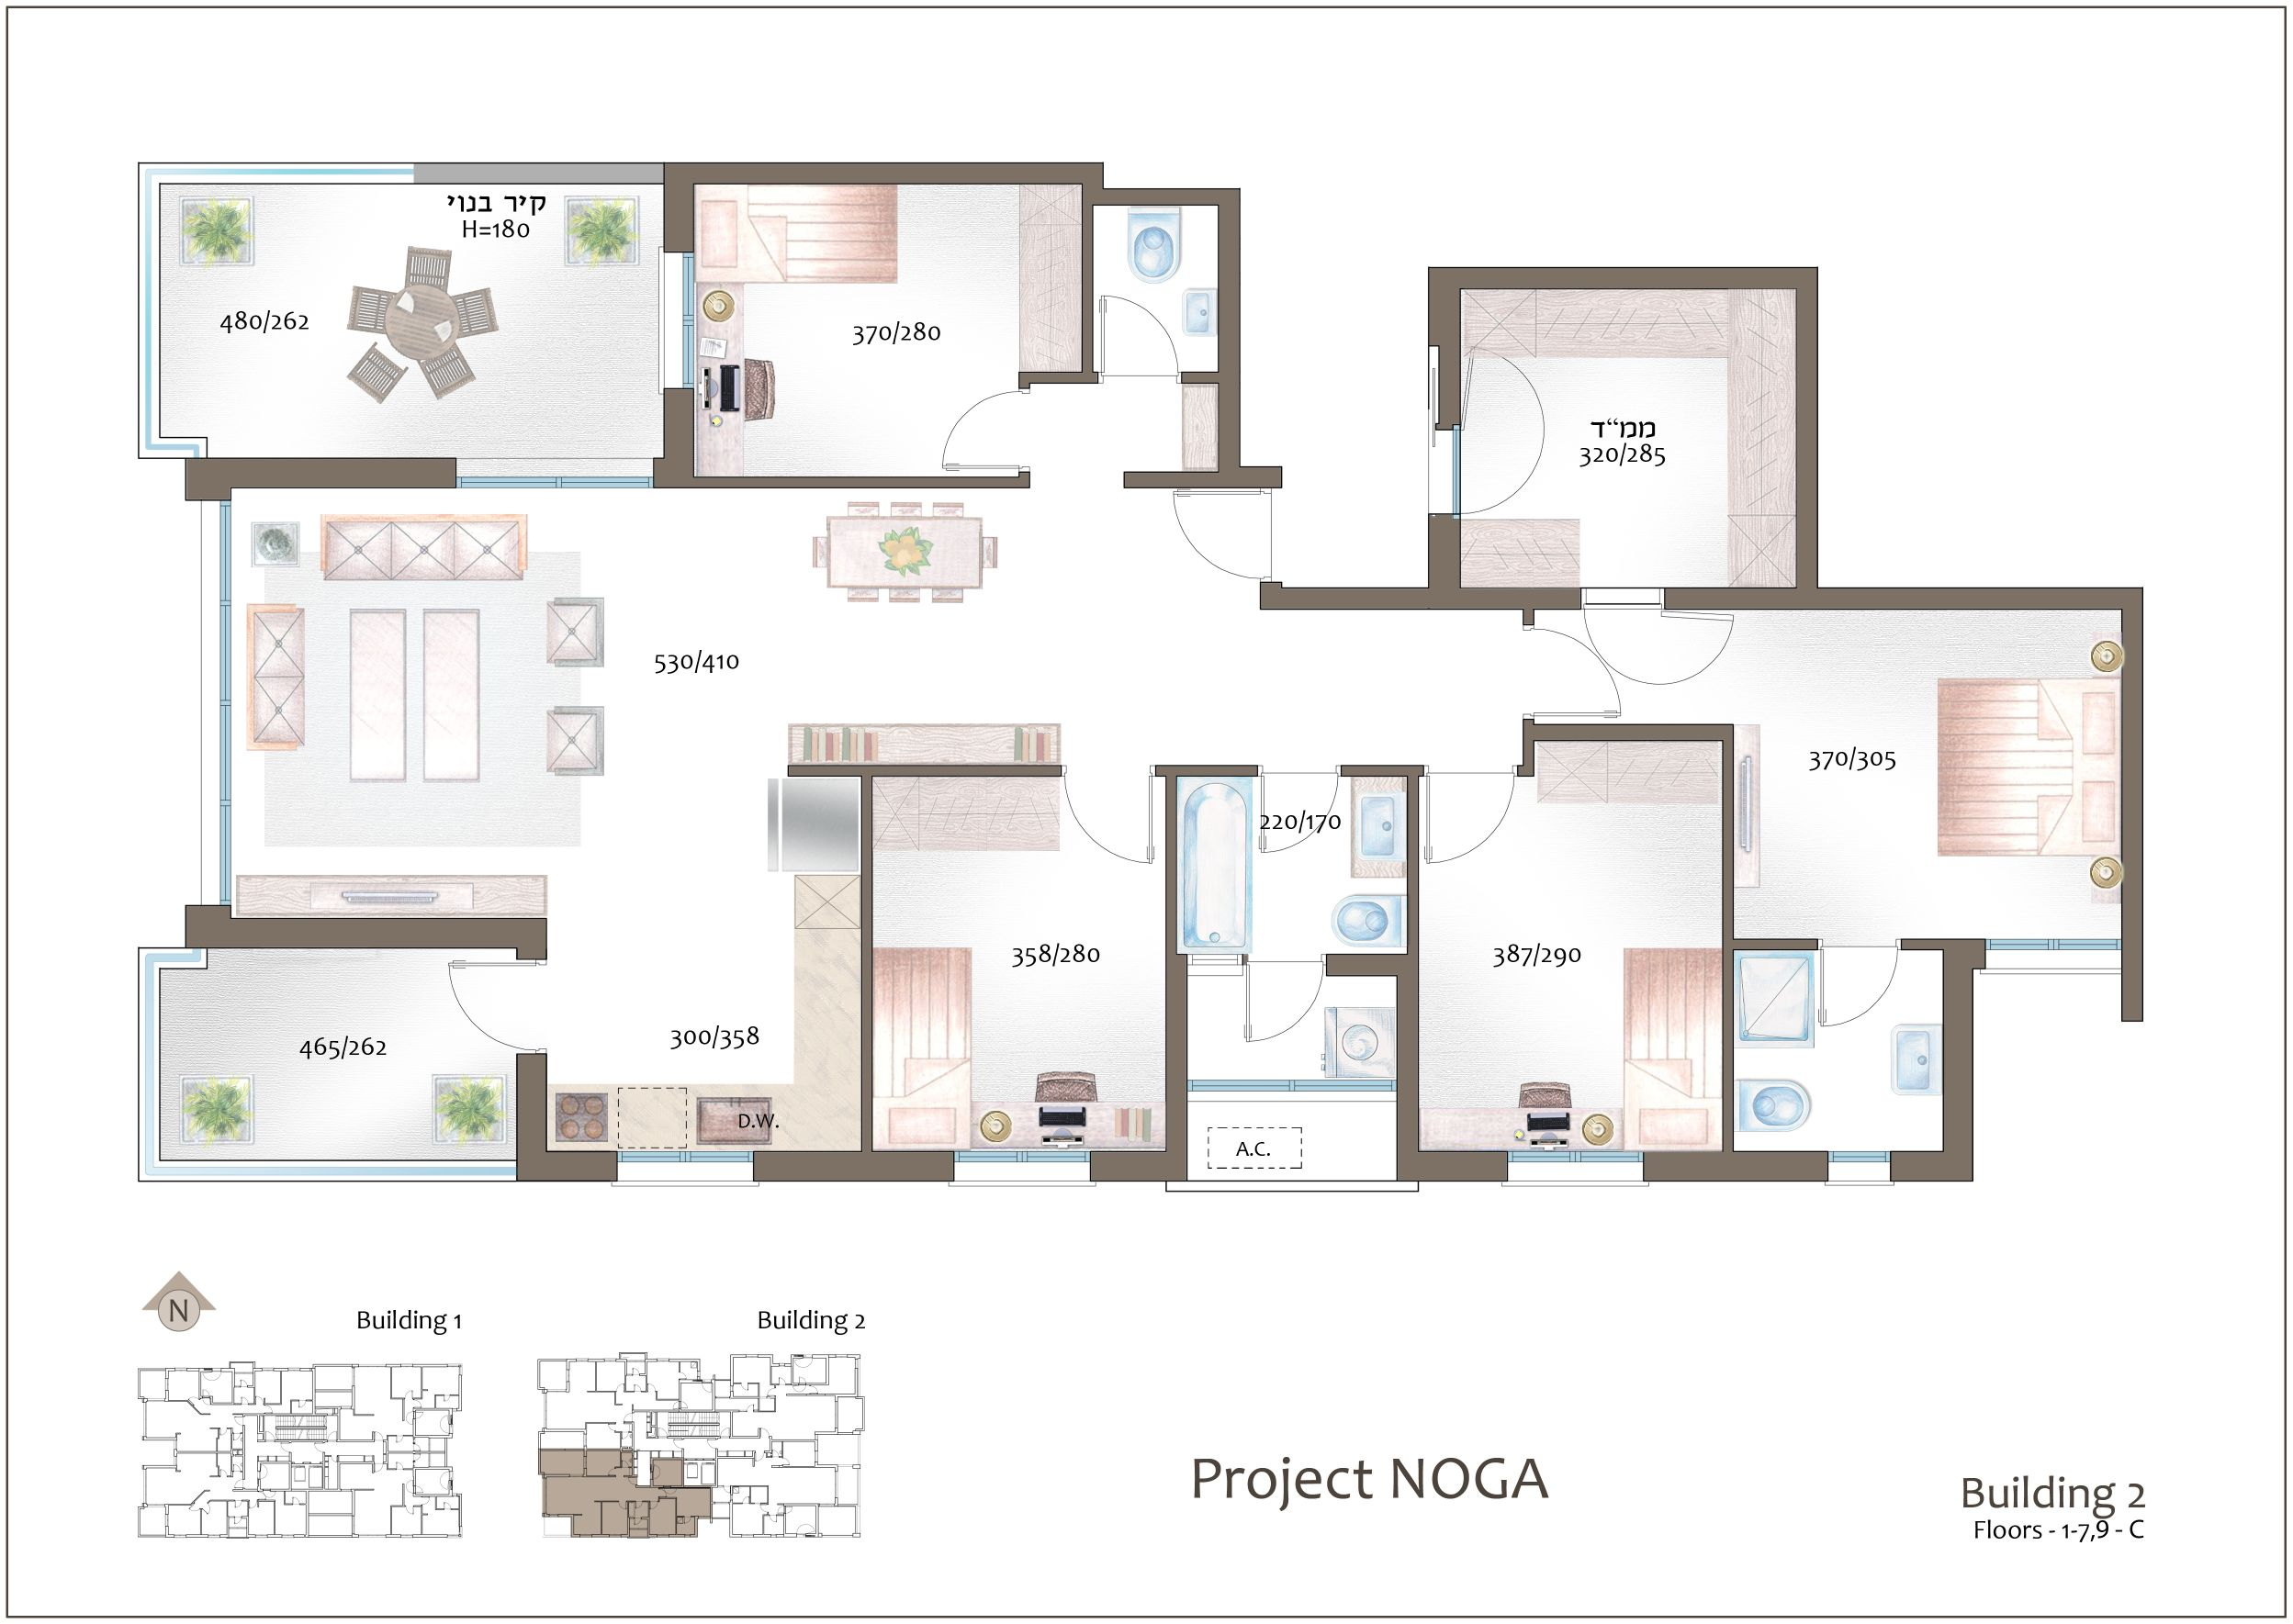door: (1653, 610, 1762, 692), (434, 954, 513, 1046), (1067, 800, 1161, 875), (923, 399, 1011, 475), (1816, 972, 1885, 1044), (1238, 981, 1310, 1046)
wall: (1663, 587, 2140, 610), (666, 162, 1106, 183), (2122, 591, 2144, 1021), (1943, 940, 1973, 1181), (1797, 265, 1816, 598), (758, 1151, 951, 1179), (1723, 726, 1736, 1162), (1166, 954, 1187, 1183), (1656, 1151, 1827, 1179), (679, 476, 1030, 489), (1166, 775, 1176, 1181), (1396, 977, 1417, 1179), (862, 775, 872, 1165), (1400, 1149, 1509, 1181), (665, 163, 695, 255), (1328, 956, 1421, 974)
window: (958, 1149, 1090, 1169), (216, 805, 236, 907), (1510, 1153, 1644, 1167), (684, 253, 696, 387), (1987, 939, 2121, 951), (218, 603, 234, 703), (220, 501, 232, 605), (1451, 425, 1463, 517), (218, 701, 229, 801), (561, 478, 652, 489), (457, 478, 563, 487), (617, 1155, 691, 1165), (681, 1153, 754, 1164), (1829, 1151, 1889, 1164)
